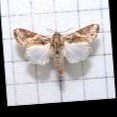Spodoptera litura: (14, 24, 101, 76)
